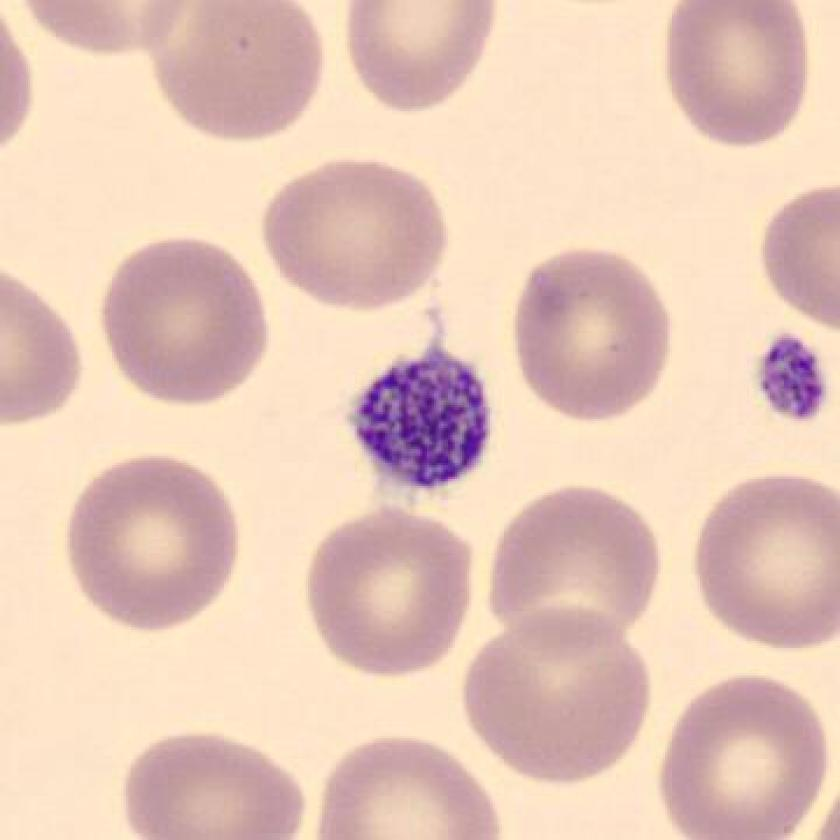platelets: (339, 346, 496, 501), (743, 323, 832, 434)
